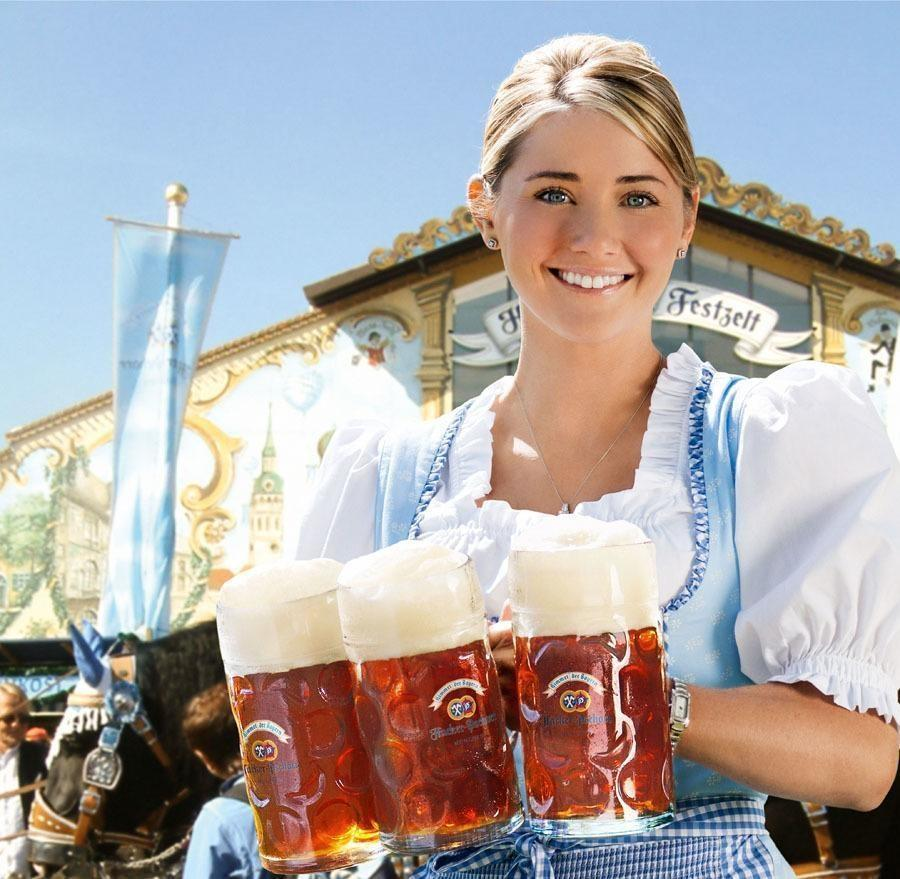glass-mug: (335, 540, 518, 851), (213, 558, 391, 873), (504, 511, 680, 827)
